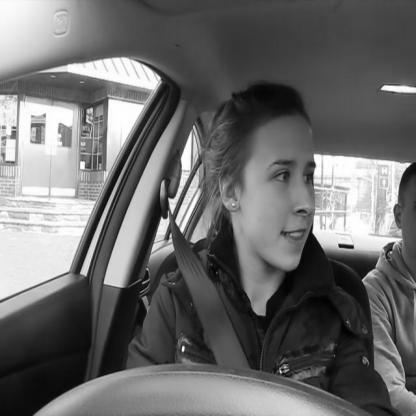seatbelt: (157, 65, 324, 416)
